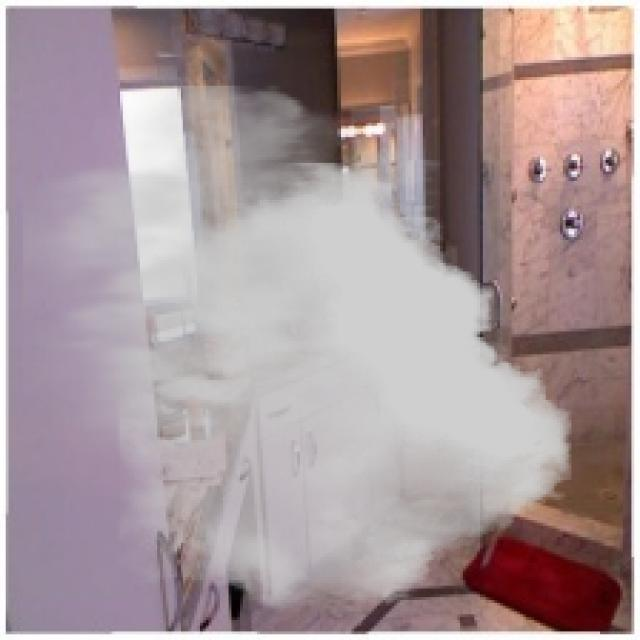smoke: (23, 86, 571, 611)
